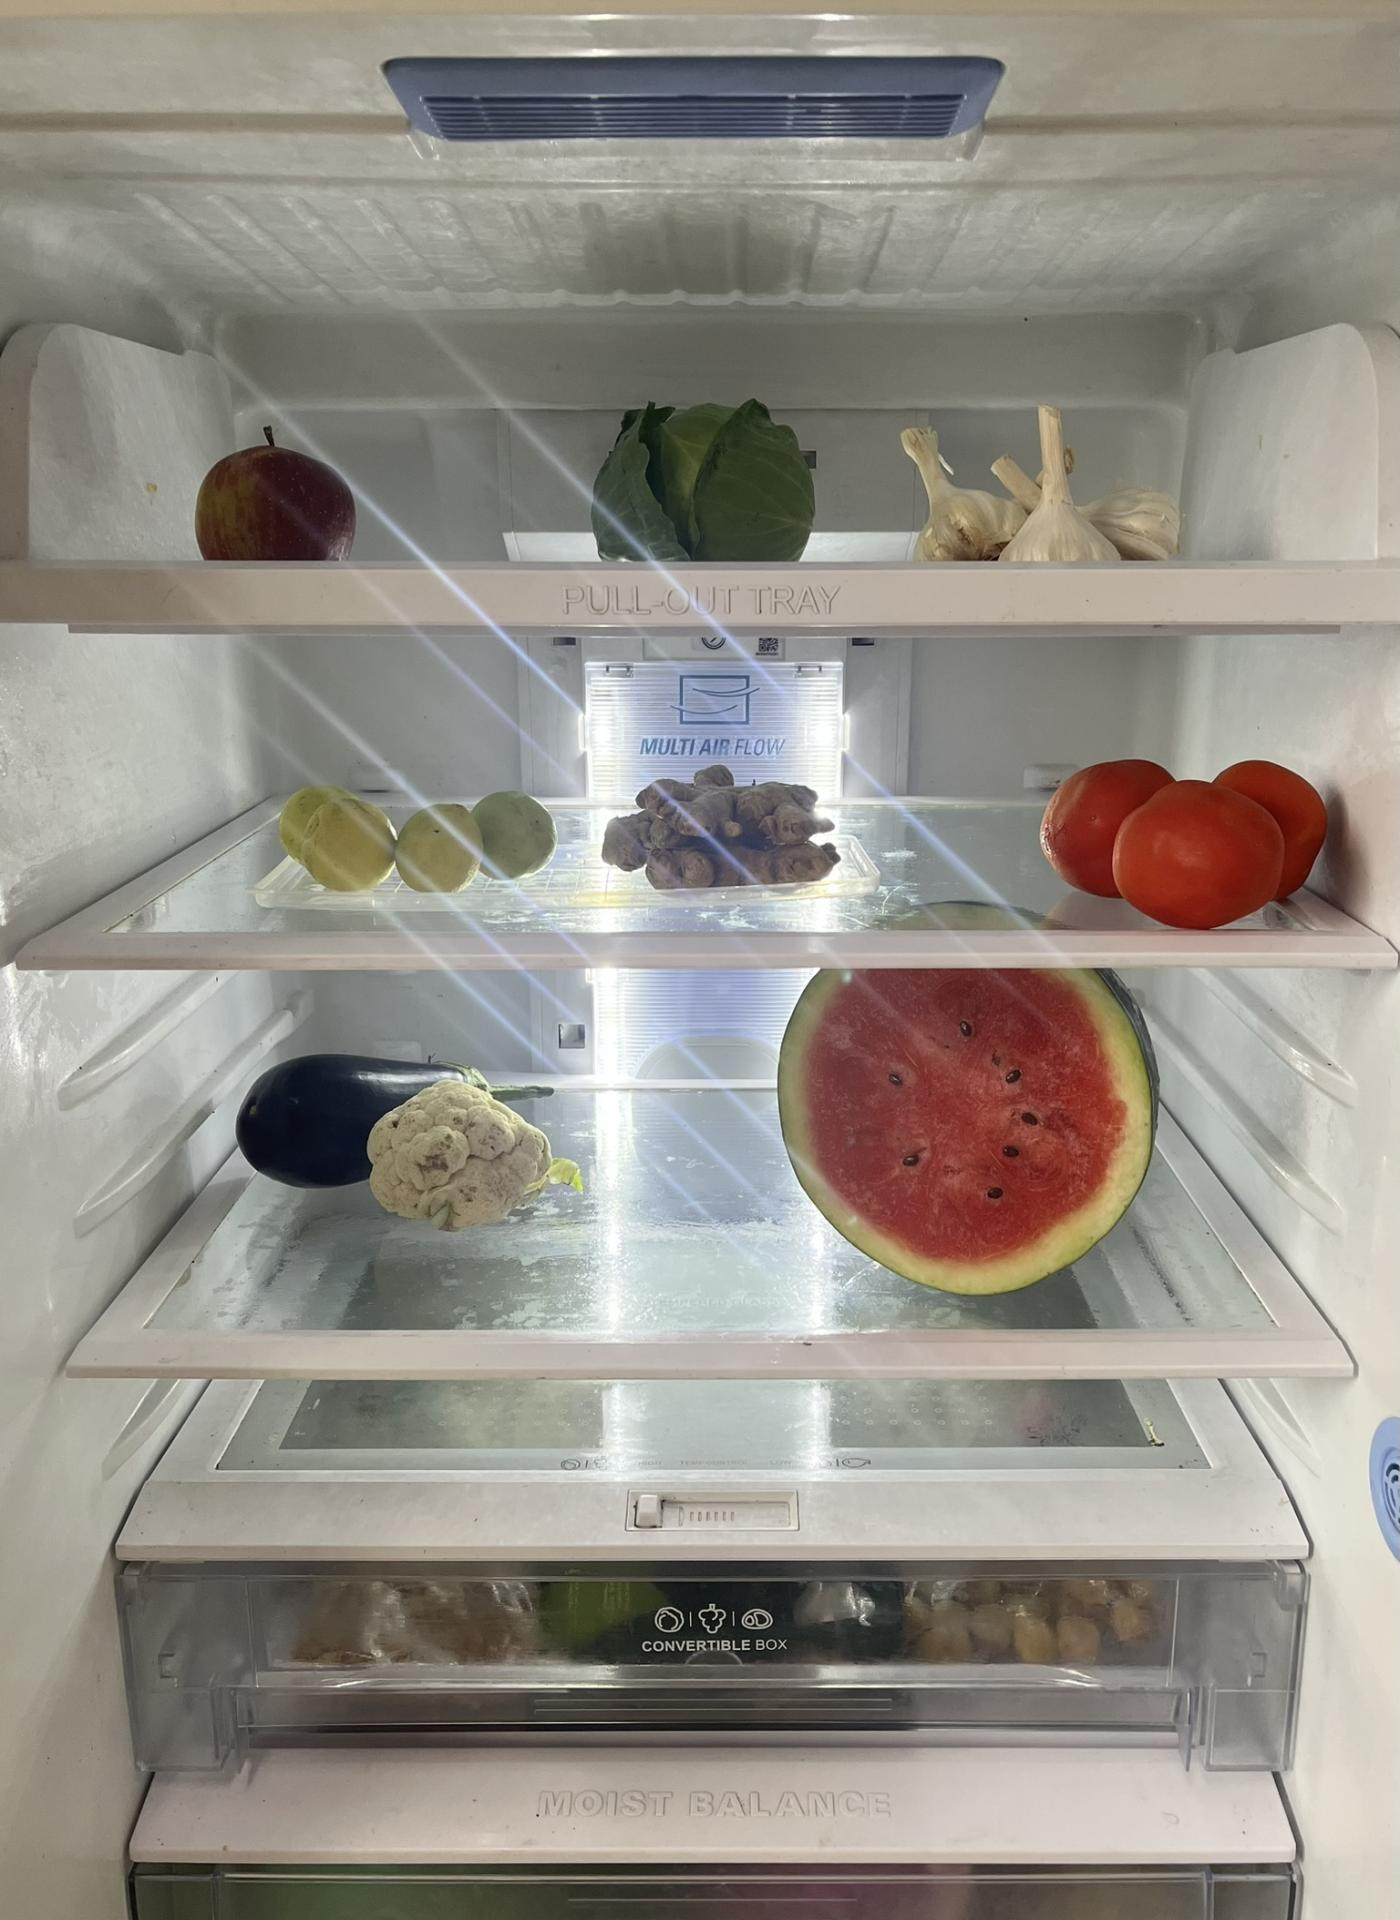apple: (194, 425, 364, 575)
cabbage: (586, 385, 826, 556)
cauliflower: (368, 1075, 577, 1222)
garlic: (878, 410, 1188, 572)
ginger: (601, 753, 866, 900)
lemon: (280, 790, 565, 890)
tomato: (1033, 741, 1346, 938)
watermelon: (777, 966, 1163, 1297)
